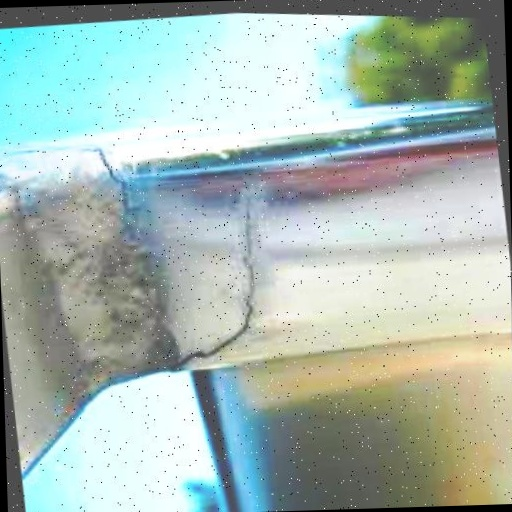crack: (159, 202, 271, 376), (7, 130, 150, 226)
